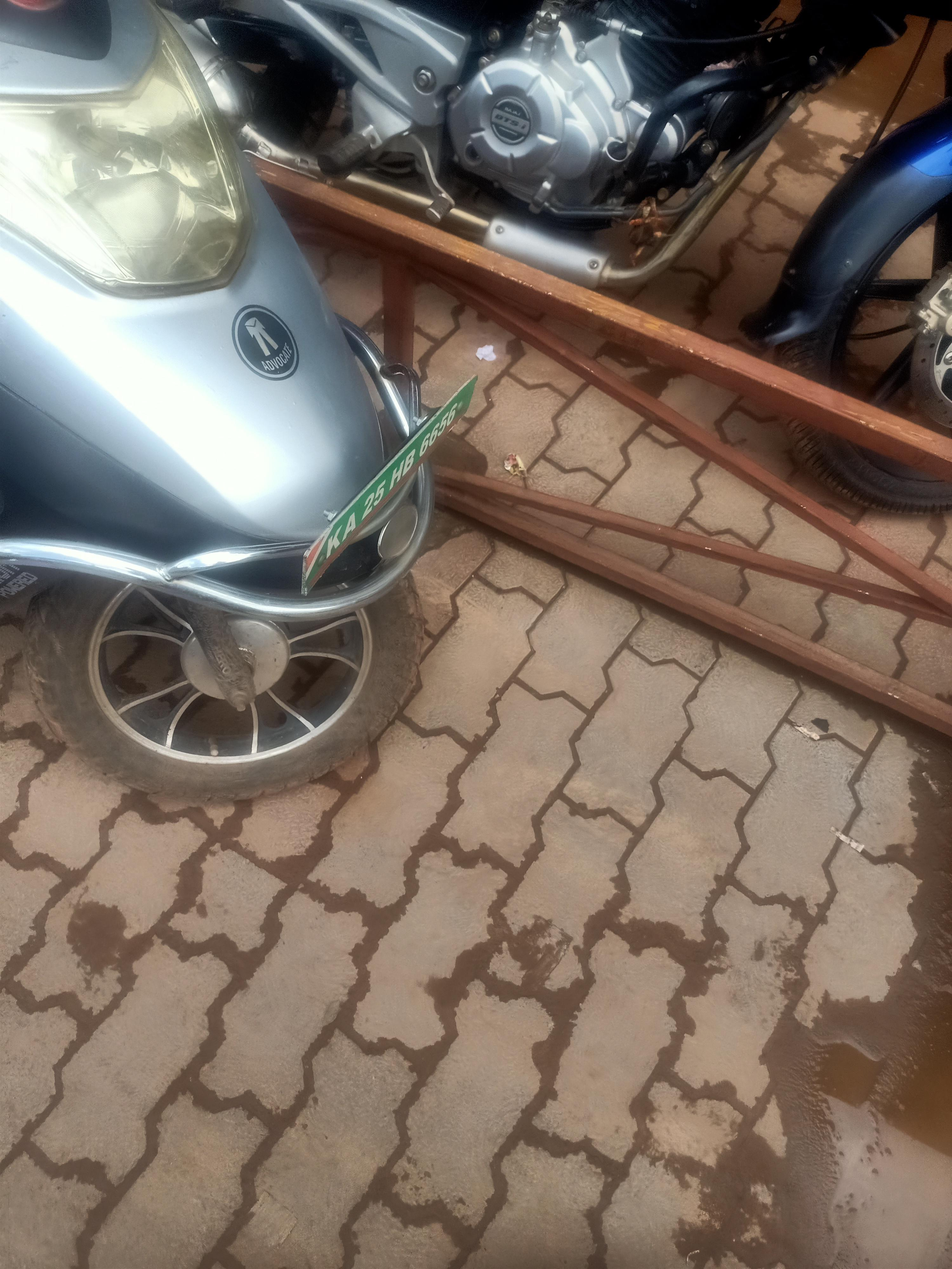green license plate: (298, 375, 473, 593)
